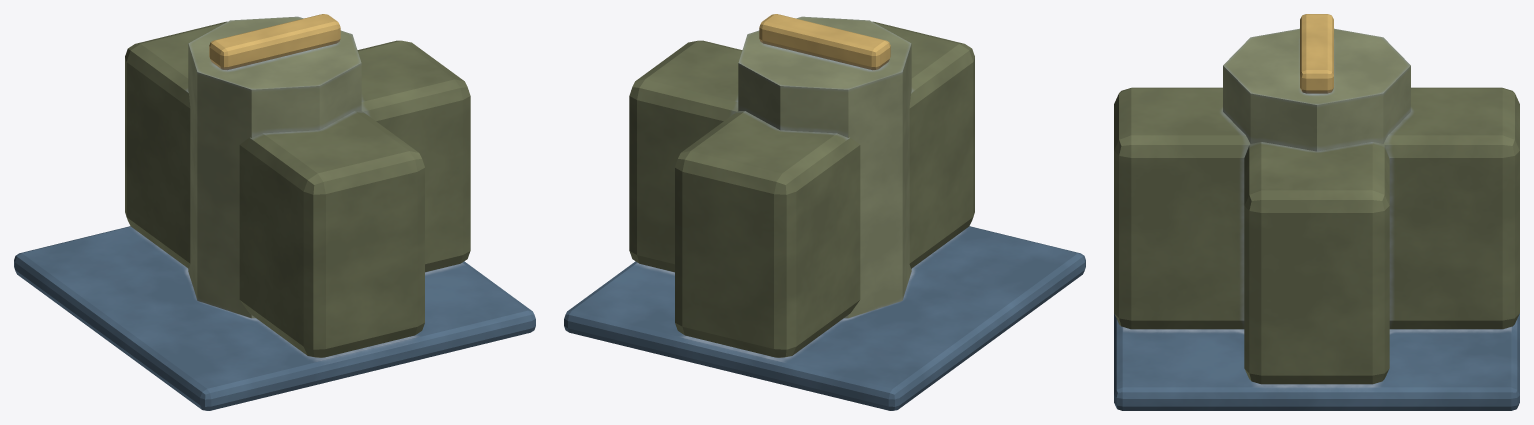
Rendered from com_wall_tee.glb.
3 renders of one model, left to right at view 1: azimuth 30°, elevation 25°; view 2: azimuth 150°, elevation 25°; view 3: azimuth 270°, elevation 25°, orthographic. The views are drawn at different scales.
Visible parts, largest first — view 1: com_wall_tee; view 2: com_wall_tee; view 3: com_wall_tee.
Part boxes in pixels (x1,y1,x2,y2): com_wall_tee: [14, 14, 535, 410]; com_wall_tee: [564, 14, 1085, 410]; com_wall_tee: [1114, 14, 1519, 410].
Bounding box in the file's own units: 0.95 × 0.74 × 0.95.
Materials: 1 (1 with a texture image).
